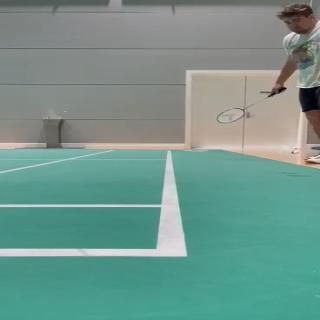Shuttle: (279, 144, 300, 154)
